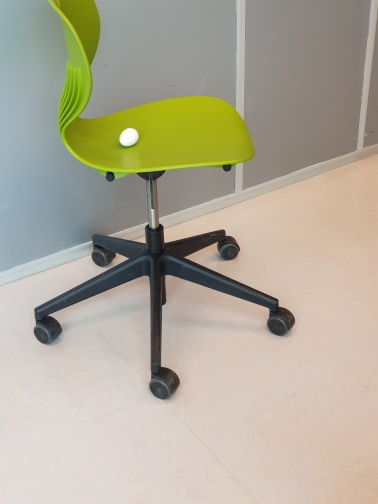egg: (117, 126, 140, 148)
